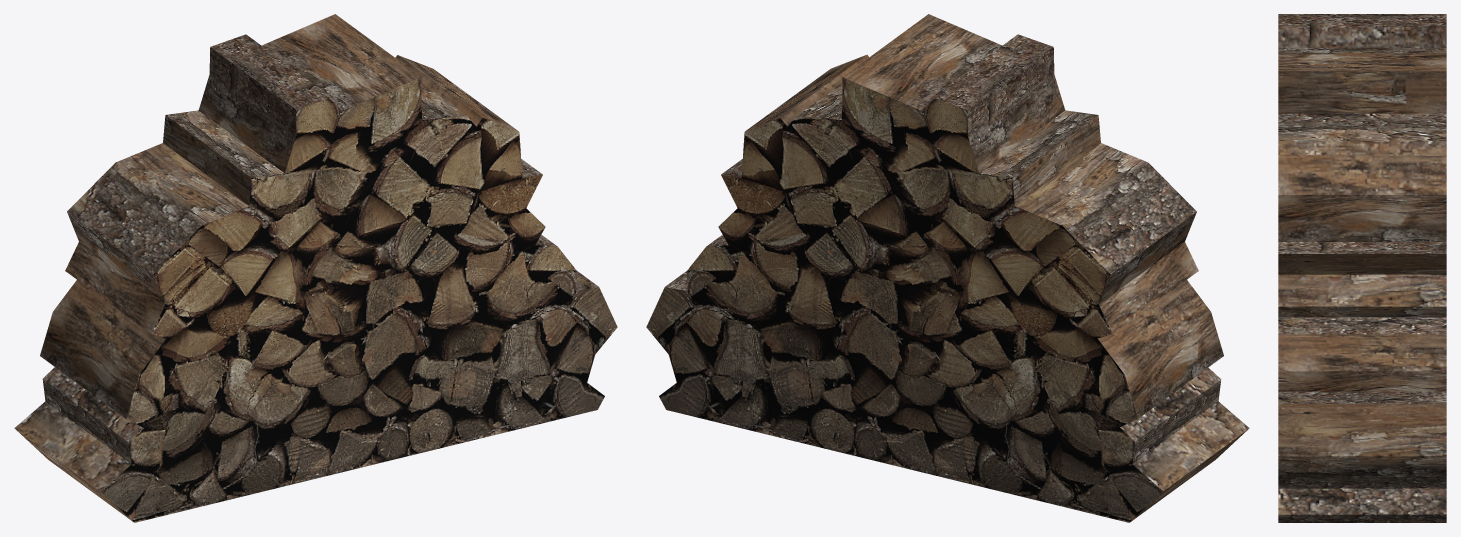
Rendered from Lumber1_LOD1.fbx.
3 renders of one model, left to right at view 1: azimuth 30°, elevation 25°; view 2: azimuth 150°, elevation 25°; view 3: azimuth 270°, elevation 25°, orthographic. The views are drawn at different scales.
Visible parts, largest first — view 1: polySurface444; view 2: polySurface444; view 3: polySurface444.
Part boxes in pixels (box(x1,y1,x2,y2)): polySurface444: box(14, 14, 617, 522); polySurface444: box(646, 14, 1249, 522); polySurface444: box(1278, 14, 1446, 522).
Bounding box in the file's own units: 7.25 × 5.06 × 2.09.
